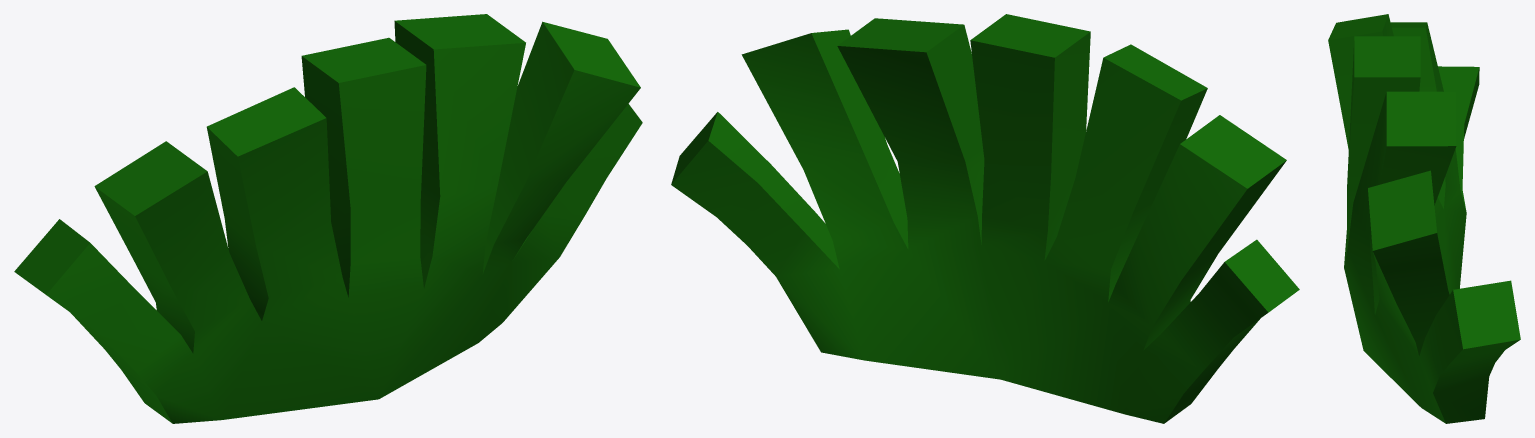
The model's file is SM_Grass_3.FBX.
The picture shows the model from 3 angles, left to right: view 1: azimuth 30°, elevation 25°; view 2: azimuth 150°, elevation 25°; view 3: azimuth 270°, elevation 25°; orthographic projection. The views are drawn at different scales.
Visible parts, largest first — view 1: 3; view 2: 3; view 3: 3.
Part boxes in pixels (x1,y1,x2,y2): 3: (14,14,642,423); 3: (671,14,1299,423); 3: (1328,14,1520,423).
Size of the model in its own units: 16.39 by 8.37 by 4.96.
